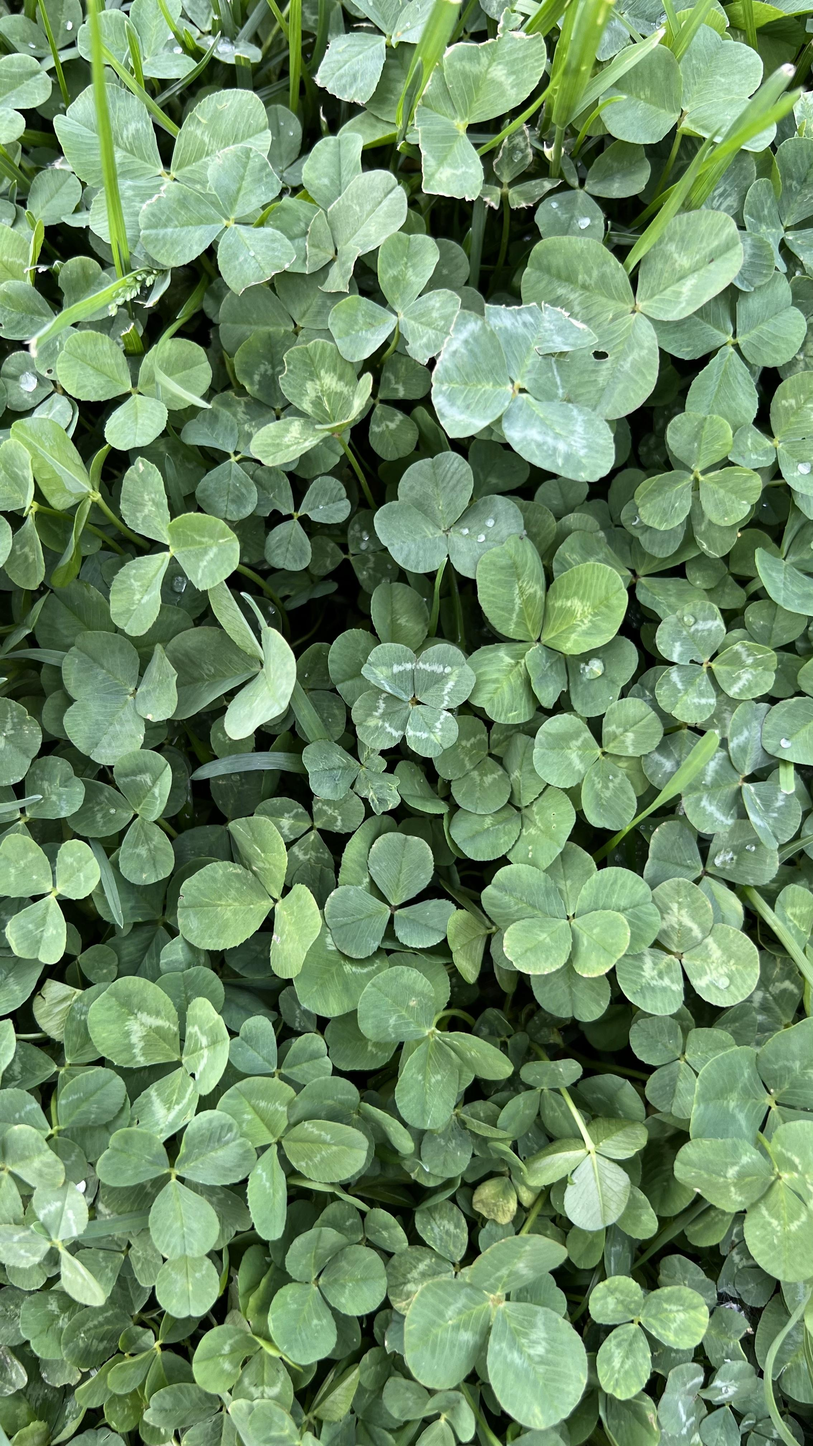4-Leaf-Clovers: (361, 604, 425, 821)
